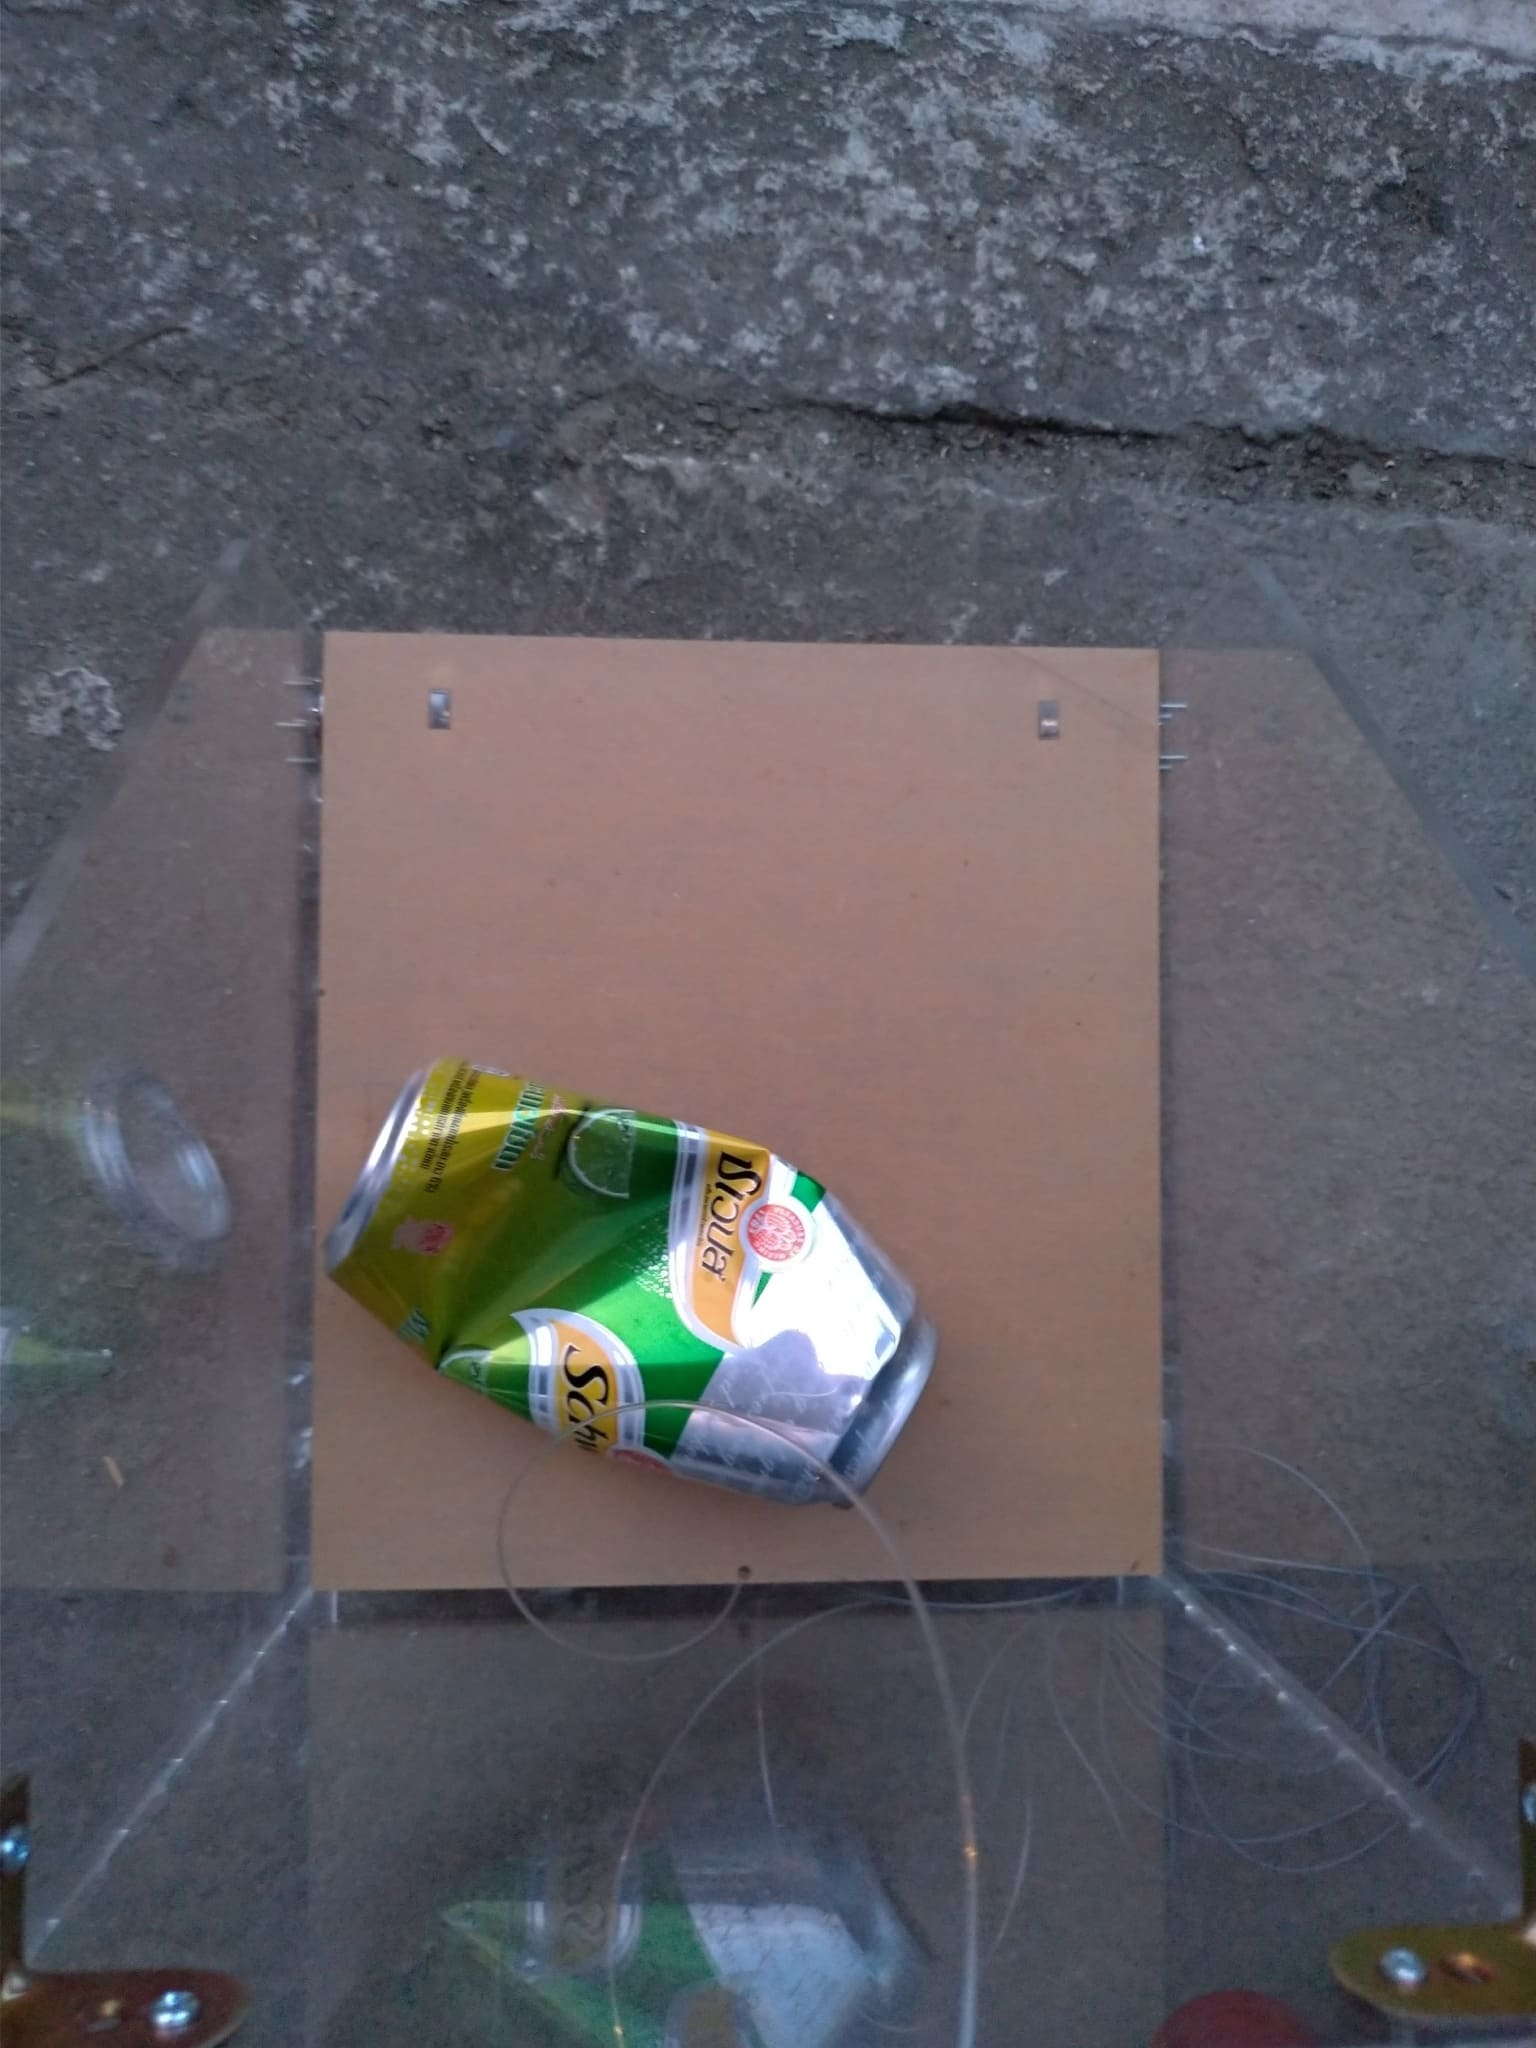AlCan: (324, 1055, 937, 1516)
